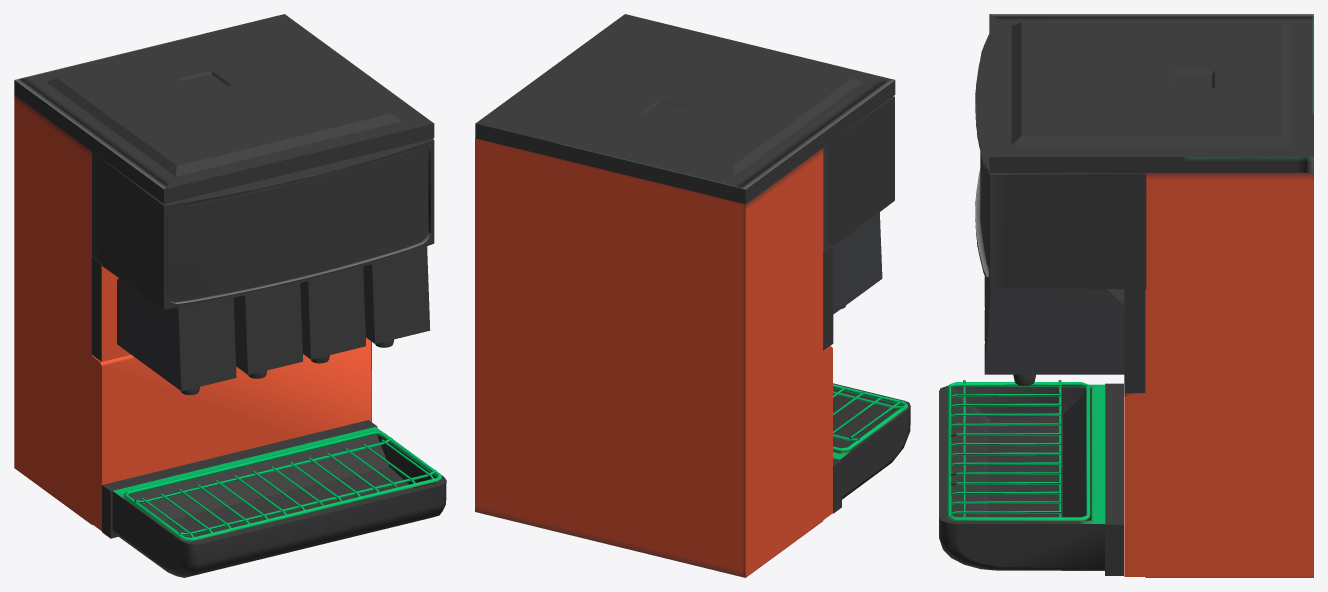
Rendered from soda_machine.fbx.
3 renders of one model, left to right at view 1: azimuth 30°, elevation 25°; view 2: azimuth 150°, elevation 25°; view 3: azimuth 270°, elevation 25°, orthographic. The views are drawn at different scales.
Parts seen in each view (by area): view 1: SM_Fazs_lod_0; view 2: SM_Fazs_lod_0; view 3: SM_Fazs_lod_0.
Part boxes in pixels (x1=…): SM_Fazs_lod_0: x1=14, y1=14, x2=446, y2=577; SM_Fazs_lod_0: x1=475, y1=14, x2=910, y2=577; SM_Fazs_lod_0: x1=939, y1=14, x2=1313, y2=577.
Size of what is drawn, in the model's own units: 67.38 by 93.76 by 74.53.
